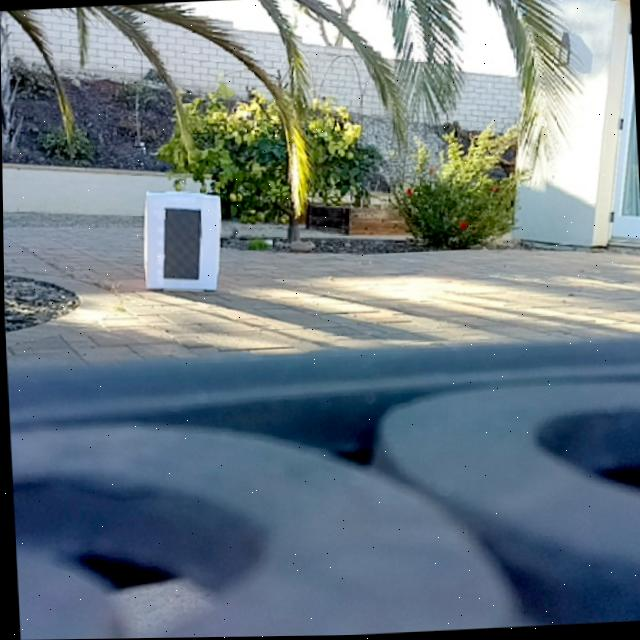led: (159, 207, 201, 282)
